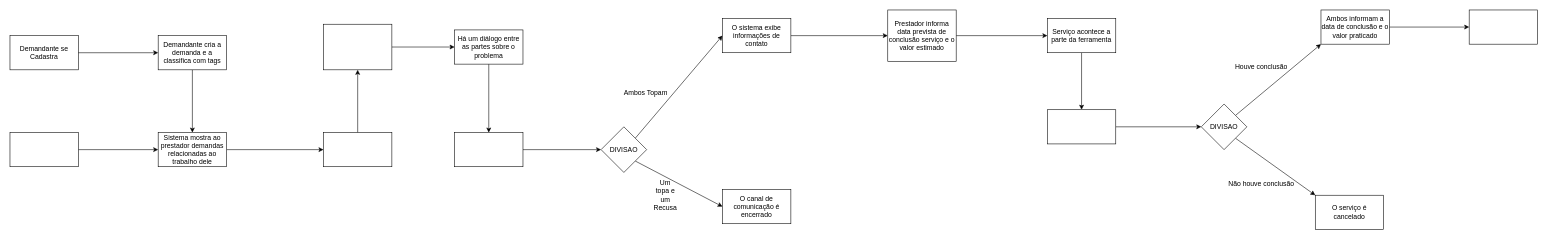
This 1548x239 diagram has some shape labels left out. The centre of each missing label's shape, as x and y in pixels:
"Ambos indicam se houve ou não conclusão do serviço" belongs at point (1081, 126).
"Prestador avalia Demandante, Demandante avalia prestador" belongs at point (1503, 26).
"Prestador de serviço se prontifica para realizar aquela demanda" belongs at point (357, 149).
"Prestador e Demandante Topam ou recusam a demanda" belongs at point (488, 149).
"Prestador se Cadastra" belongs at point (43, 149).
"Sistema abre um canal de comunicação entre demandante e prestador" belongs at point (357, 47).
